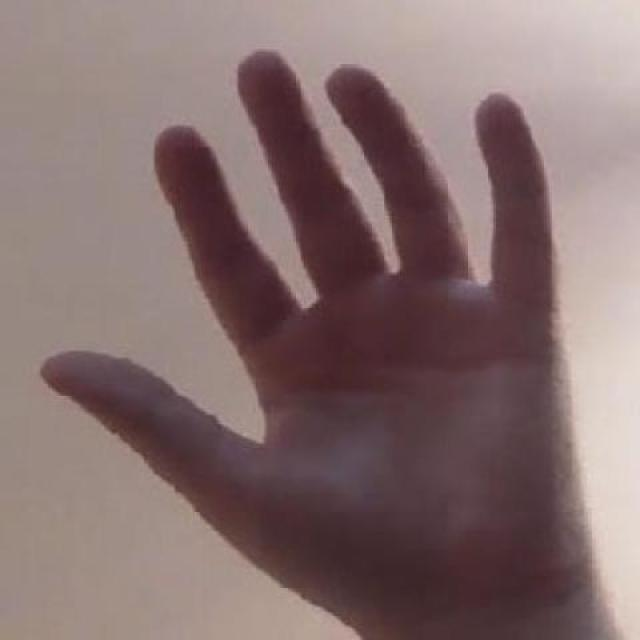Open Hand: (38, 48, 613, 640)
